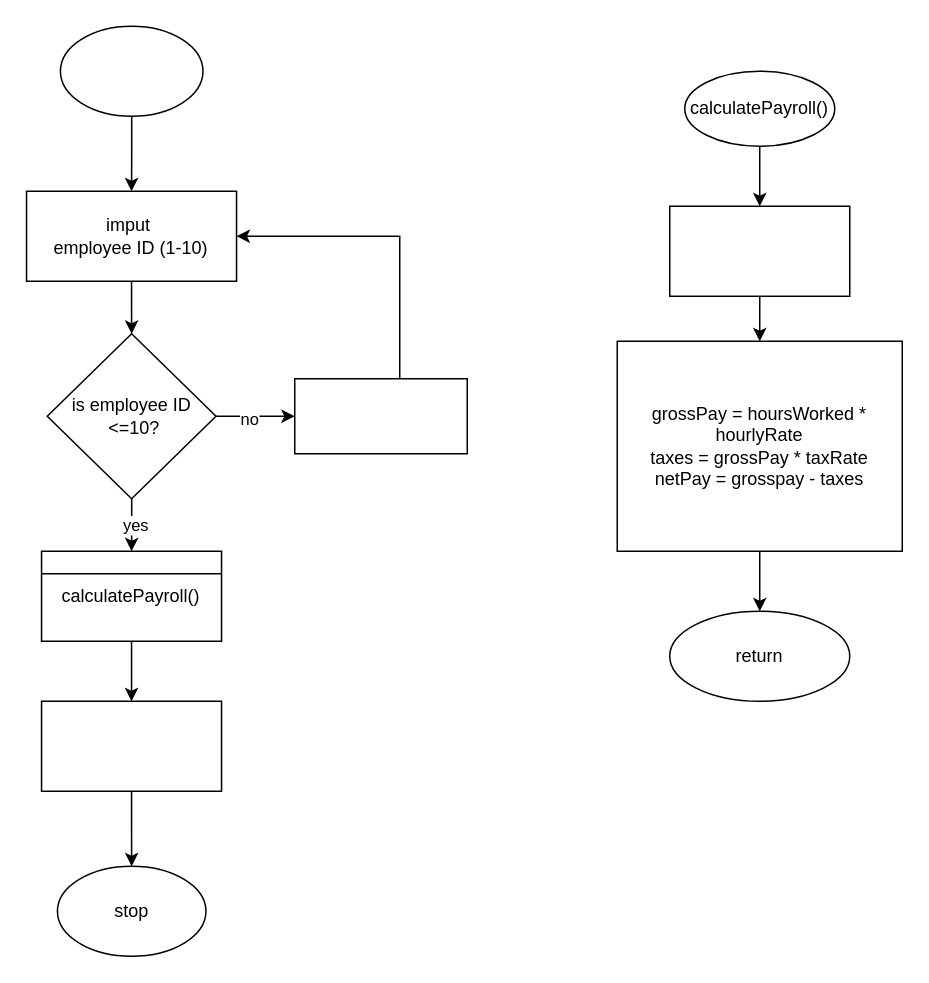
Some shapes in this 929 by 983 pixel diagram are drawn without their labels. Each missing label, with the box of its shape:
imput hours worked: (668, 205, 850, 296)
print "ID not found": (293, 377, 467, 454)
print "your payroll is " + netPay: (40, 700, 222, 791)
start: (59, 25, 203, 116)
